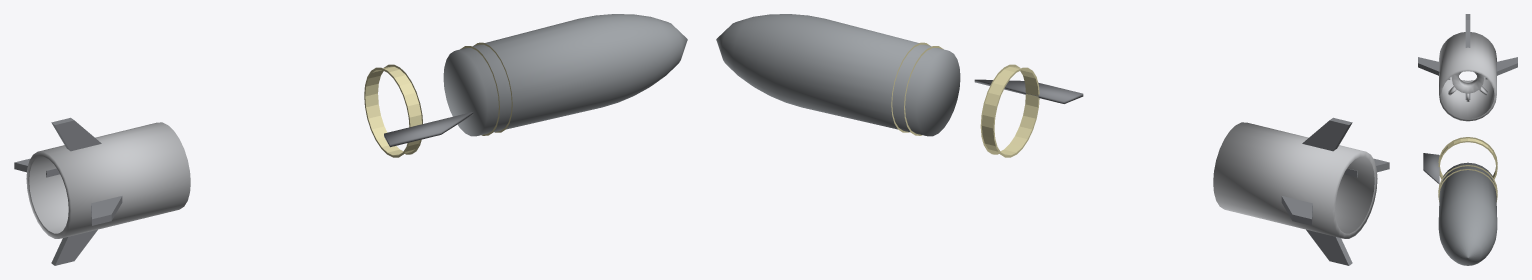
Rendered from UK_TORP_StingRay_LOD1.fbx.
3 renders of one model, left to right at view 1: azimuth 30°, elevation 25°; view 2: azimuth 150°, elevation 25°; view 3: azimuth 270°, elevation 25°, orthographic. The views are drawn at different scales.
Parts seen in each view (by area): view 1: WPN_UK_TORP_StingRay_LOD1_Body, WPN_UK_TORP_StingRay_LOD1_Propulsor, WPN_UK_TORP_StingRay_LOD1_Marking, WPN_UK_TORP_StingRay_LOD1_Fins, WPN_UK_TORP_StingRay_LOD1_Detail; view 2: WPN_UK_TORP_StingRay_LOD1_Body, WPN_UK_TORP_StingRay_LOD1_Propulsor, WPN_UK_TORP_StingRay_LOD1_Marking, WPN_UK_TORP_StingRay_LOD1_Fins, WPN_UK_TORP_StingRay_LOD1_Detail; view 3: WPN_UK_TORP_StingRay_LOD1_Body, WPN_UK_TORP_StingRay_LOD1_Propulsor, WPN_UK_TORP_StingRay_LOD1_Marking, WPN_UK_TORP_StingRay_LOD1_Fins, WPN_UK_TORP_StingRay_LOD1_Detail.
Part boxes in pixels (bbox=[...]): WPN_UK_TORP_StingRay_LOD1_Body: bbox=[443, 14, 687, 136]; WPN_UK_TORP_StingRay_LOD1_Propulsor: bbox=[26, 122, 190, 238]; WPN_UK_TORP_StingRay_LOD1_Marking: bbox=[364, 42, 512, 157]; WPN_UK_TORP_StingRay_LOD1_Fins: bbox=[14, 117, 122, 265]; WPN_UK_TORP_StingRay_LOD1_Detail: bbox=[384, 112, 473, 147]; WPN_UK_TORP_StingRay_LOD1_Body: bbox=[716, 14, 960, 136]; WPN_UK_TORP_StingRay_LOD1_Propulsor: bbox=[1213, 122, 1377, 238]; WPN_UK_TORP_StingRay_LOD1_Marking: bbox=[891, 42, 1039, 157]; WPN_UK_TORP_StingRay_LOD1_Fins: bbox=[1281, 117, 1389, 265]; WPN_UK_TORP_StingRay_LOD1_Detail: bbox=[974, 79, 1083, 103]; WPN_UK_TORP_StingRay_LOD1_Body: bbox=[1438, 162, 1497, 265]; WPN_UK_TORP_StingRay_LOD1_Propulsor: bbox=[1439, 32, 1496, 121]; WPN_UK_TORP_StingRay_LOD1_Marking: bbox=[1438, 137, 1497, 201]; WPN_UK_TORP_StingRay_LOD1_Fins: bbox=[1418, 14, 1517, 99]; WPN_UK_TORP_StingRay_LOD1_Detail: bbox=[1423, 153, 1439, 184].
Size of the model in its own units: 2.6 by 0.5479 by 0.5479.
